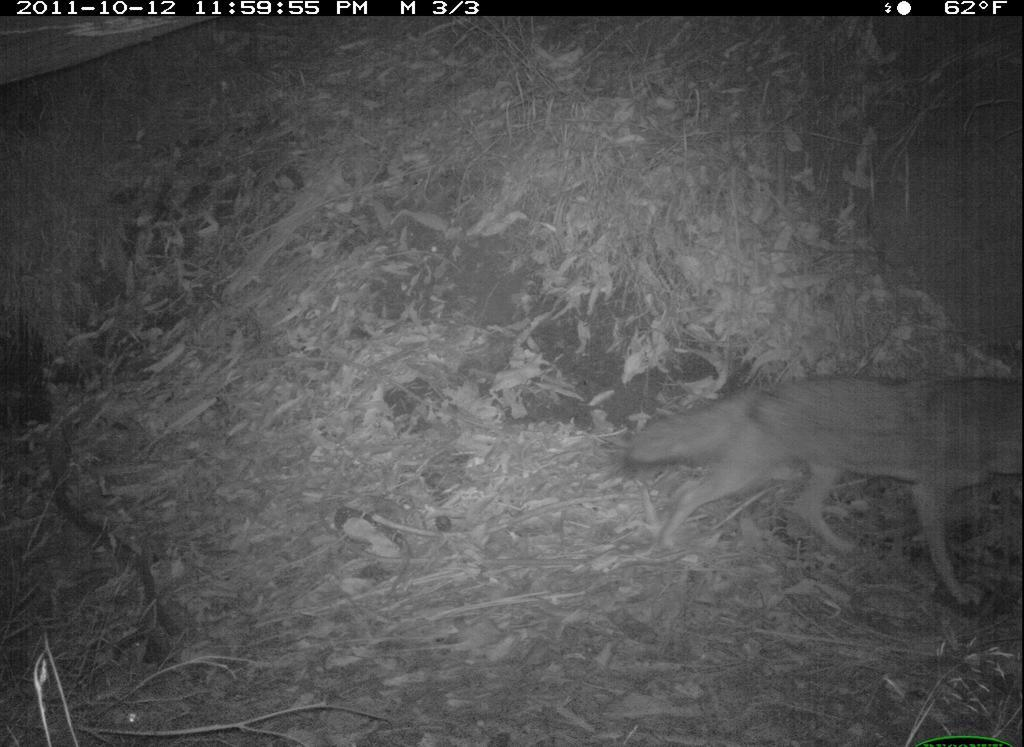coyote: (630, 363, 1023, 610)
